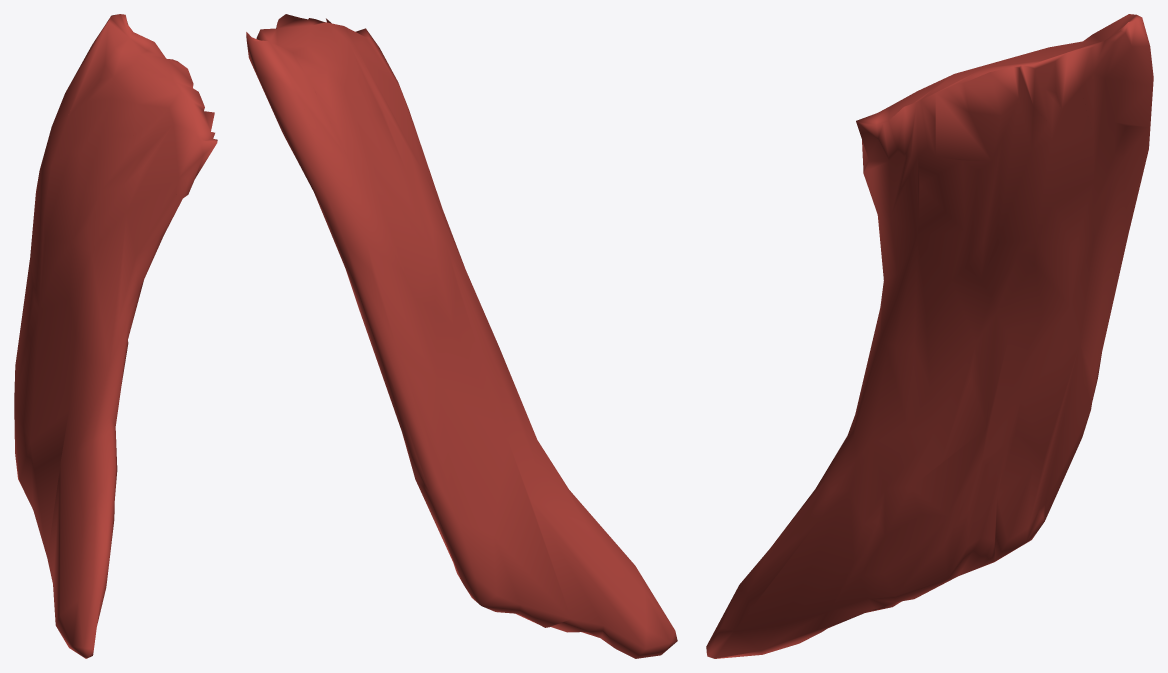
File: musculos-deep-part-of-masseter-l.glb
The picture shows the model from 3 angles, left to right: view 1: azimuth 30°, elevation 25°; view 2: azimuth 150°, elevation 25°; view 3: azimuth 270°, elevation 25°; orthographic projection. The views are drawn at different scales.
Visible parts, largest first — view 1: Deep part of masseter.l; view 2: Deep part of masseter.l; view 3: Deep part of masseter.l.
Part boxes in pixels (left/top/right/bottom): Deep part of masseter.l: left=14, top=14, right=217, bottom=658; Deep part of masseter.l: left=246, top=14, right=677, bottom=658; Deep part of masseter.l: left=706, top=14, right=1153, bottom=658.
Bounding box in the file's own units: 0.027 × 0.0655 × 0.0346.
